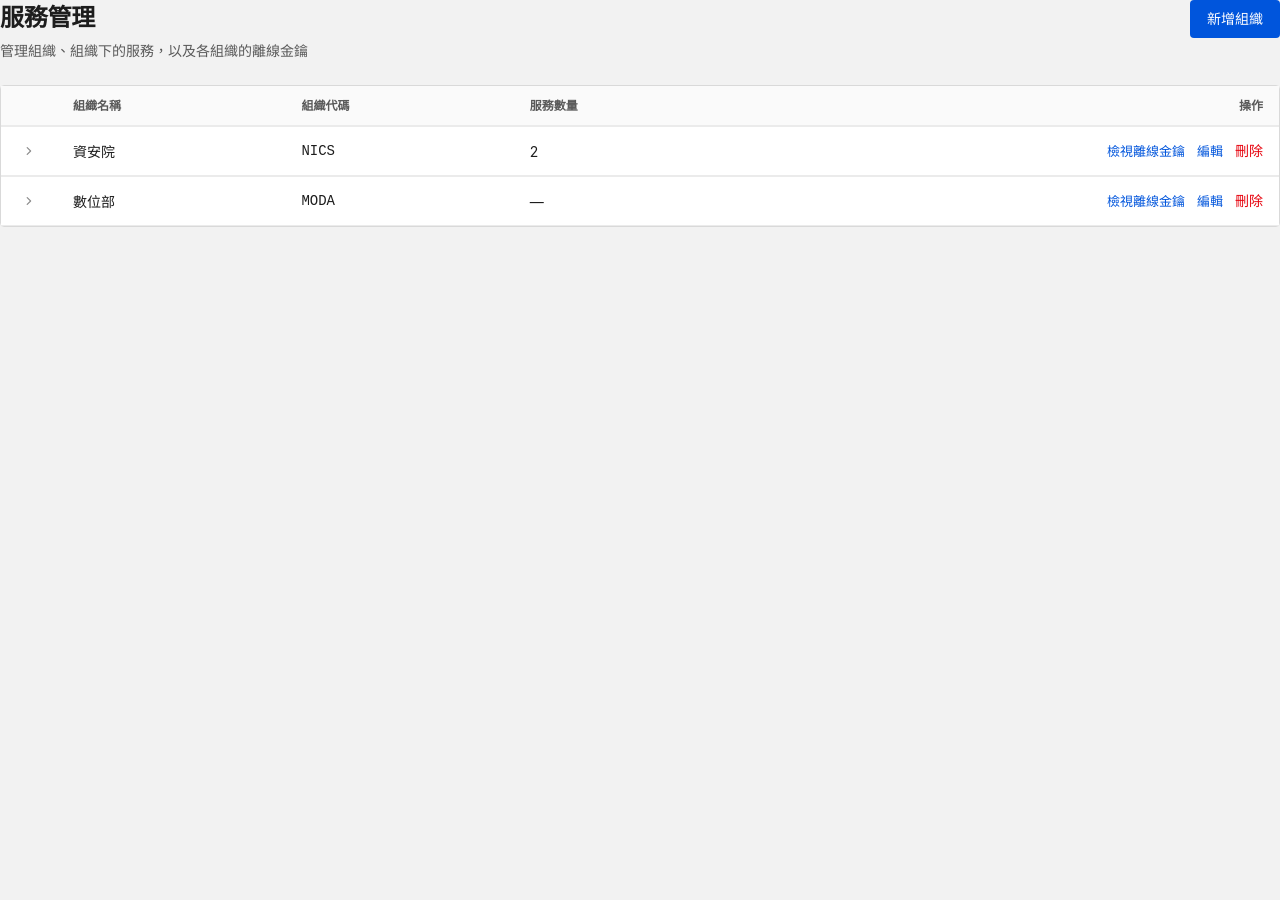
it: ServicesPage organizations › requires the organization name
expect the text "資安院" is shown: met, box [57, 126, 285, 176]
Click the button "新增組織". click: click(1235, 19)
box: [1190, 0, 1279, 38]
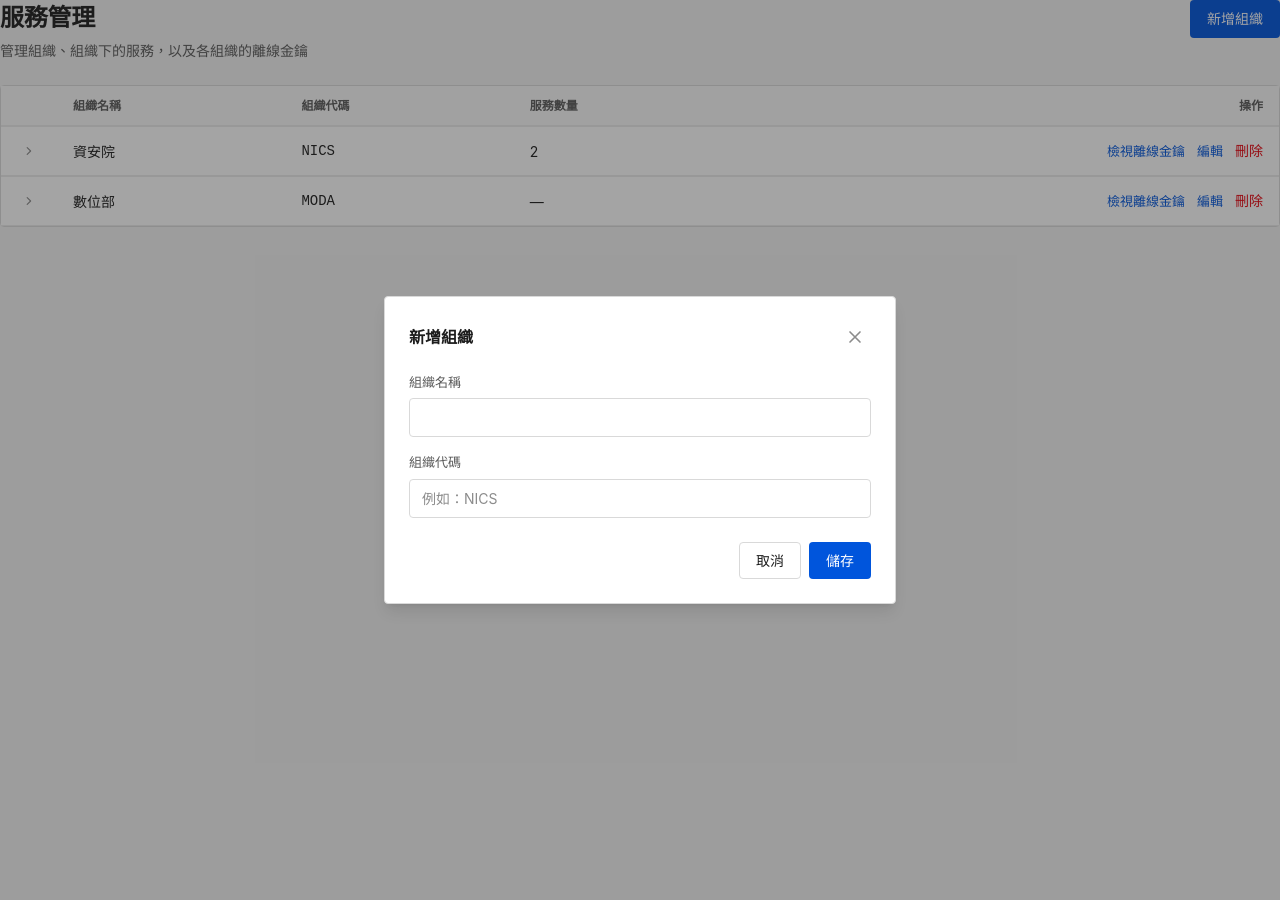
Type "X" into the field labelled "組織代碼". click: (640, 498)
box: [409, 479, 871, 518]
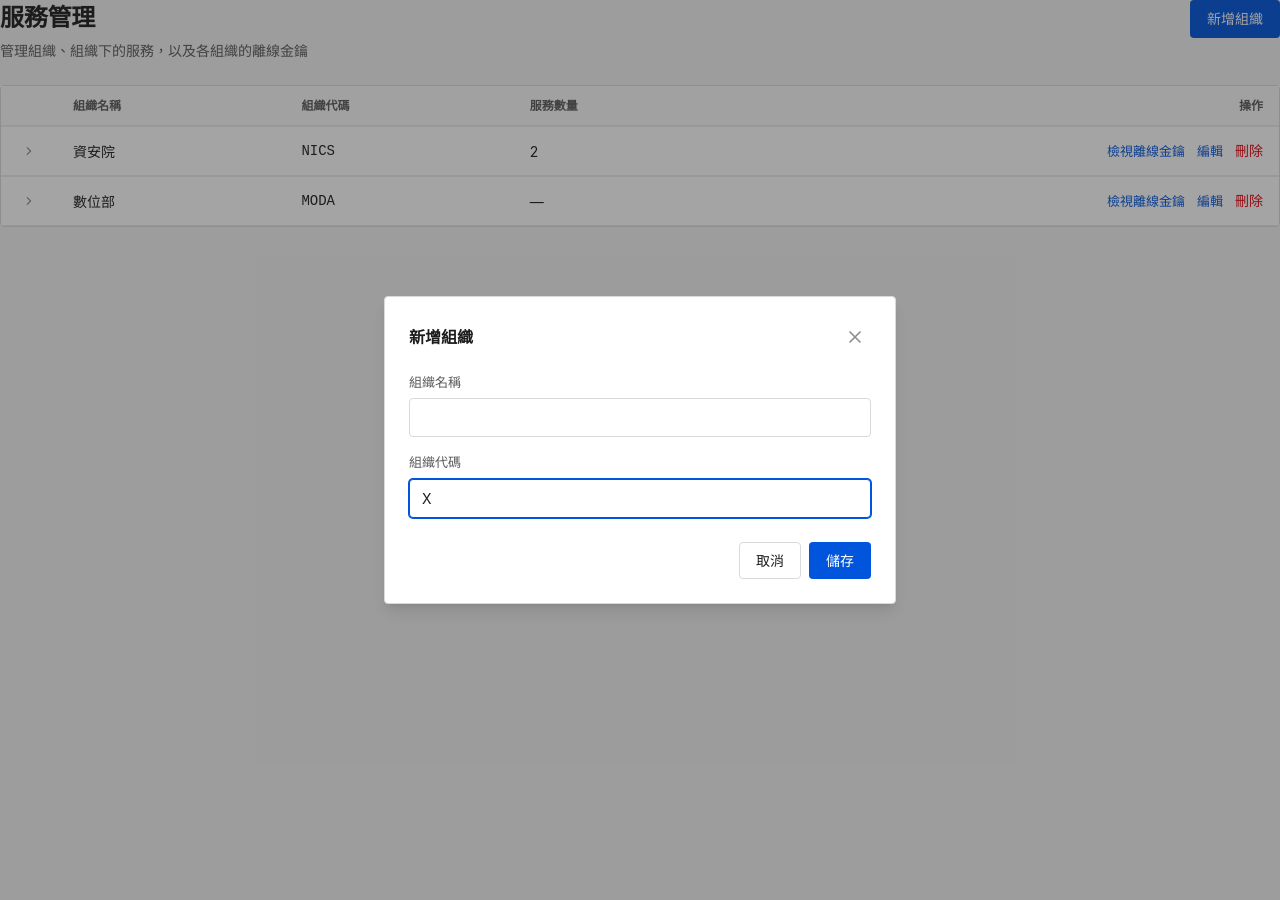
Click the button "儲存". click: click(840, 560)
box: [809, 542, 871, 579]
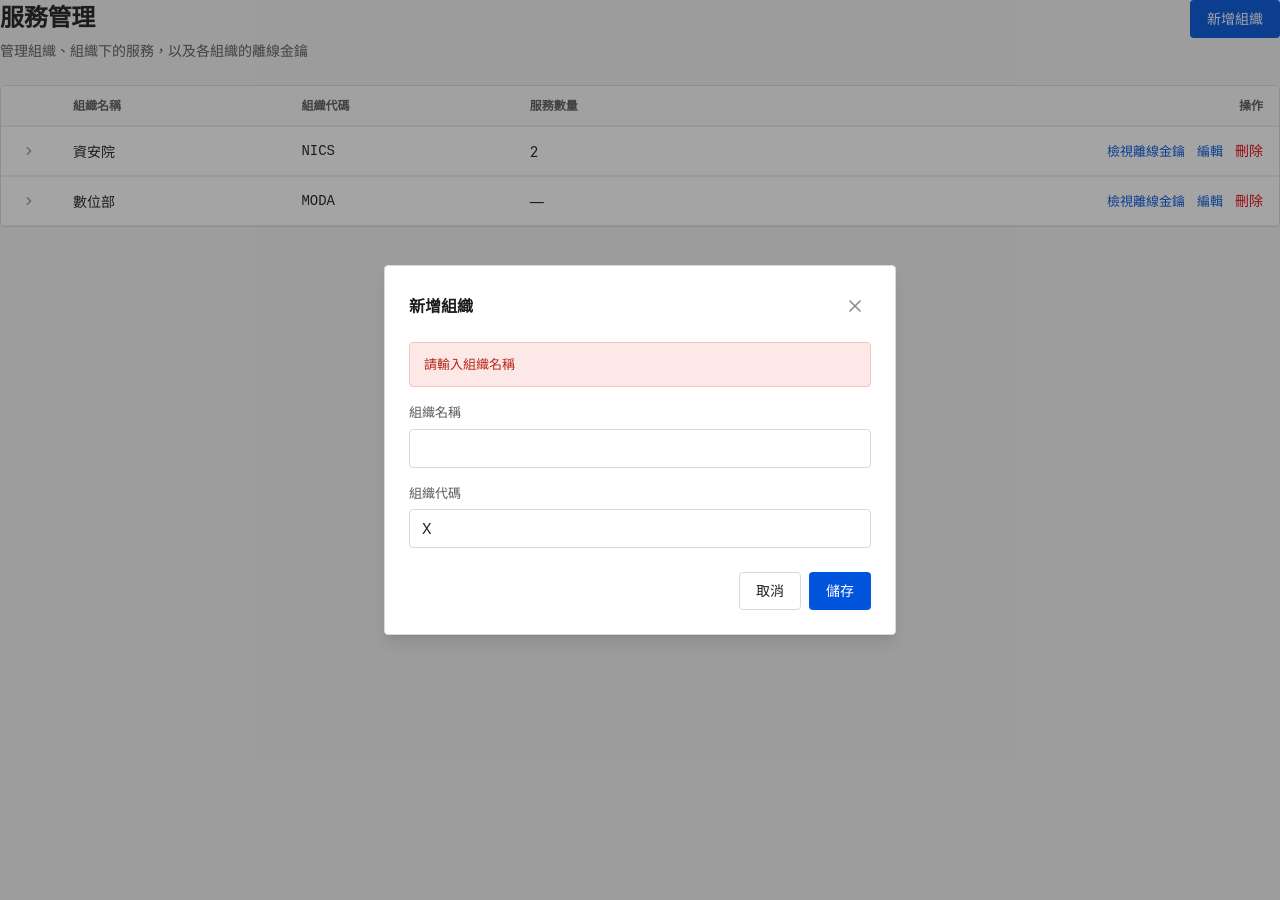
expect the text "請輸入組織名稱" is shown: met, box [409, 342, 871, 388]
